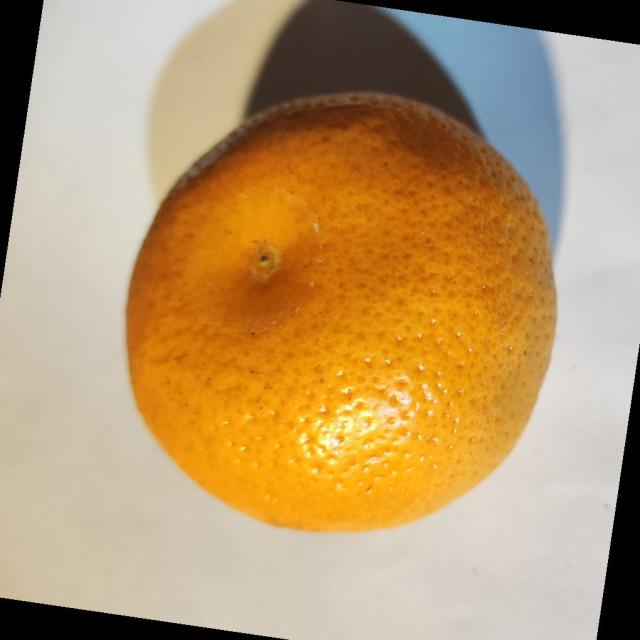fresh orange: (123, 90, 558, 534)
